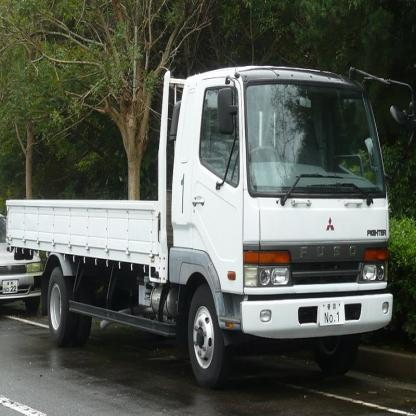truck: (6, 62, 393, 383)
